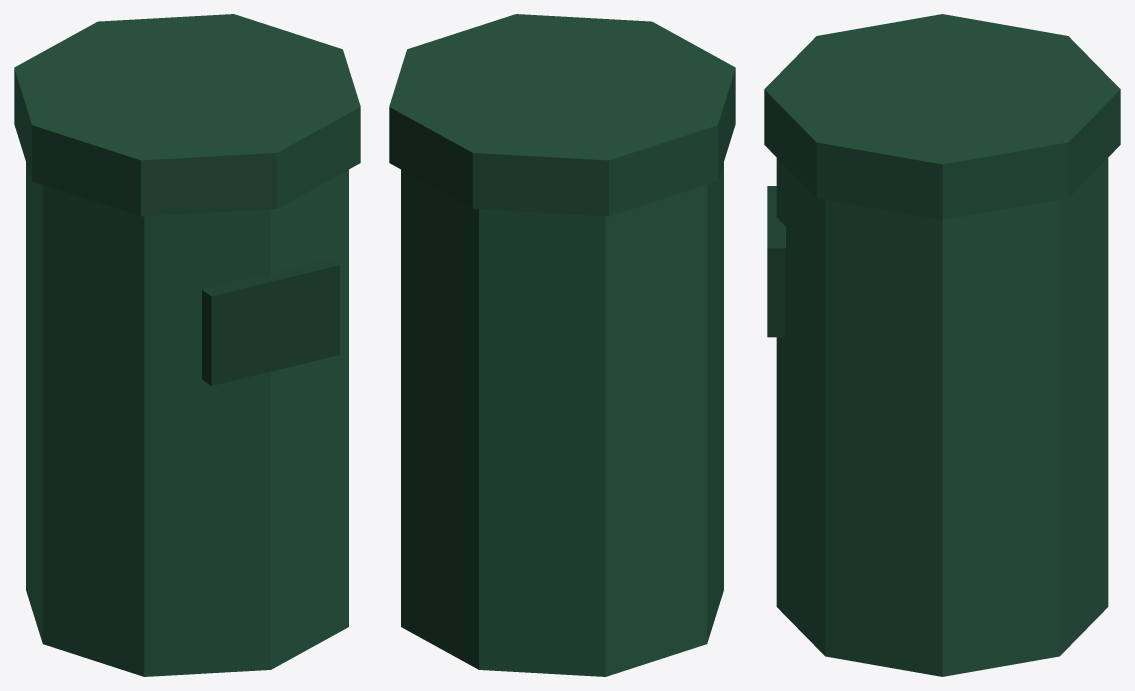
Rendered from prop_bin_a.glb.
3 renders of one model, left to right at view 1: azimuth 30°, elevation 25°; view 2: azimuth 150°, elevation 25°; view 3: azimuth 270°, elevation 25°, orthographic.
Visible parts, largest first — view 1: prop; view 2: prop; view 3: prop.
Part boxes in pixels (x1=…): prop: x1=14, y1=14, x2=360, y2=676; prop: x1=389, y1=14, x2=735, y2=676; prop: x1=764, y1=14, x2=1120, y2=676.
Size of the model in its own units: 0.58 by 0.93 by 0.58.
